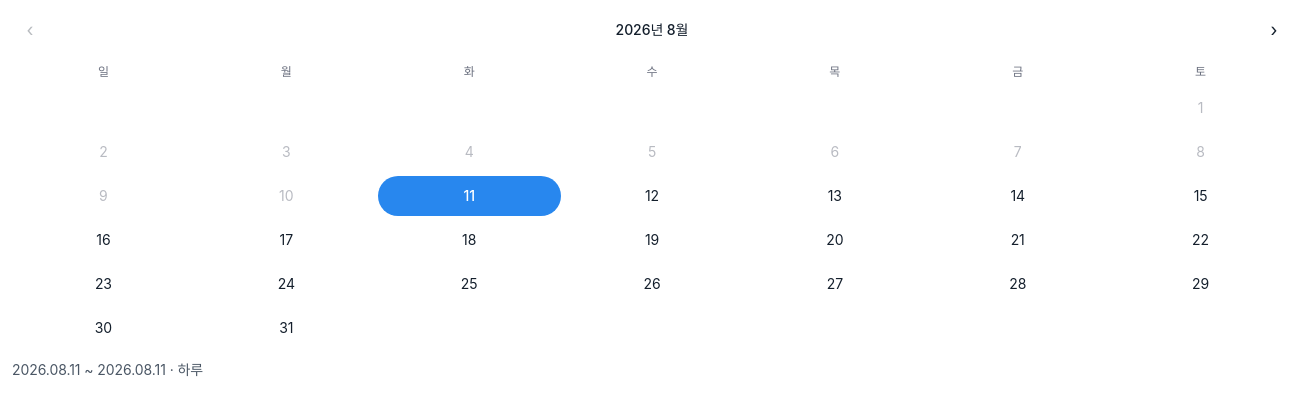
Test: DateRangeCalendar — 범위 고르기 (FR-015) › 다음 달로 넘어간다
Click the button named "다음 달" at (1274,30), box [1256,12,1292,48]
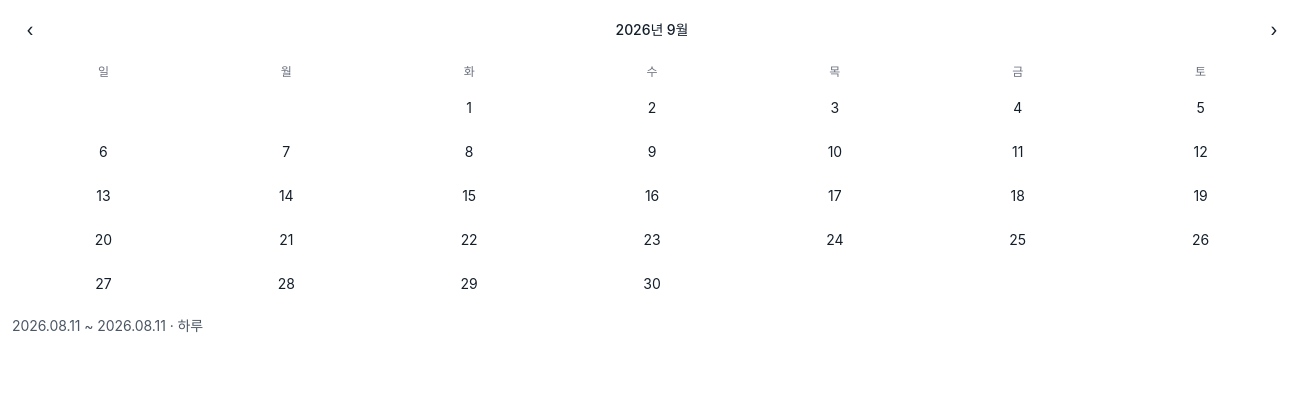
Result: the text "2026년 9월" is shown at [616,20,688,40]
